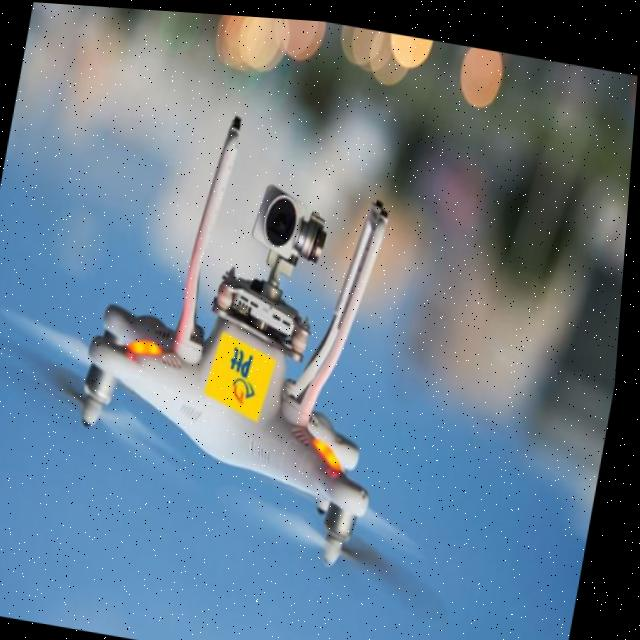drones: (0, 61, 547, 640)
